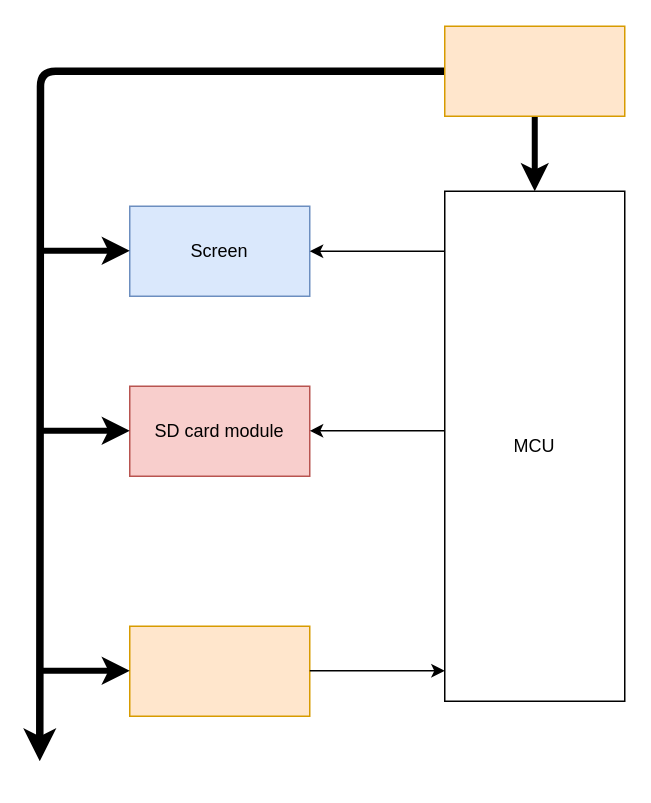
Some shapes in this 651 by 803 pixel diagram are drawn without their labels. The centre of each missing label's shape, as x and y in pixels:
"GPS module" goes at (x=219, y=670).
"Power" goes at (x=534, y=70).
